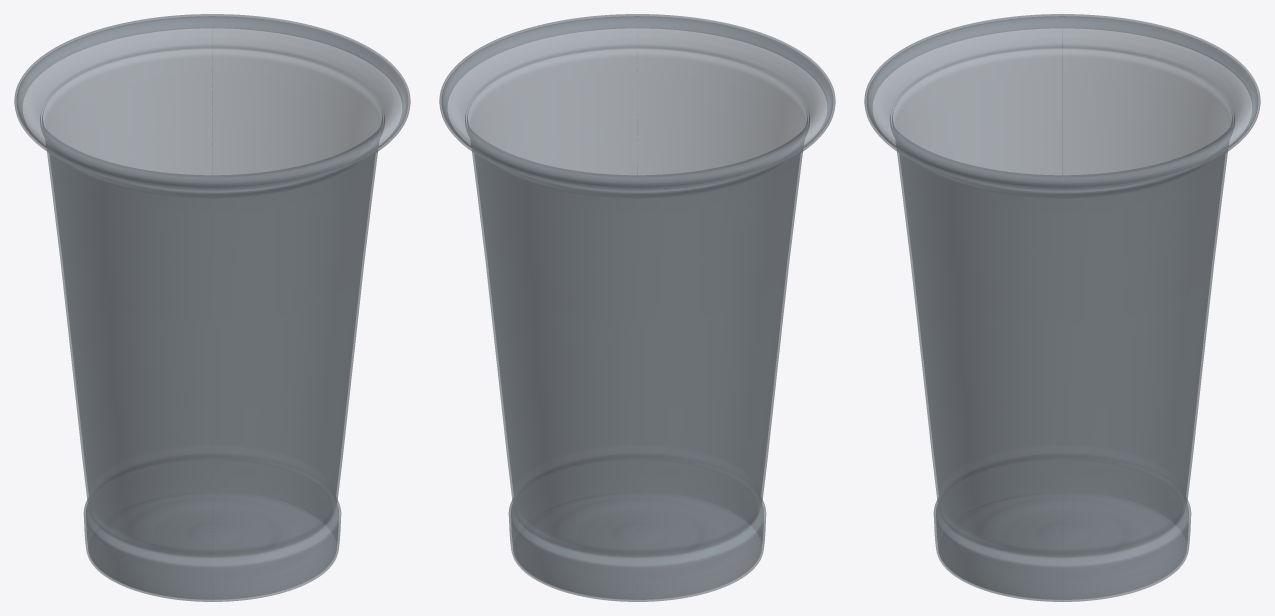
The model's file is plastic-cup.glb.
3 renders of one model, left to right at view 1: azimuth 30°, elevation 25°; view 2: azimuth 150°, elevation 25°; view 3: azimuth 270°, elevation 25°, orthographic.
Parts seen in each view (by area): view 1: PET_PlasticCup; view 2: PET_PlasticCup; view 3: PET_PlasticCup.
Boxes of the visible parts, bbox=[...] form: PET_PlasticCup: bbox=[14, 14, 410, 601]; PET_PlasticCup: bbox=[439, 14, 835, 601]; PET_PlasticCup: bbox=[864, 14, 1260, 601].
Size of the model in its own units: 0.0989 by 0.1249 by 0.0989.
1 material, 1 textured.
